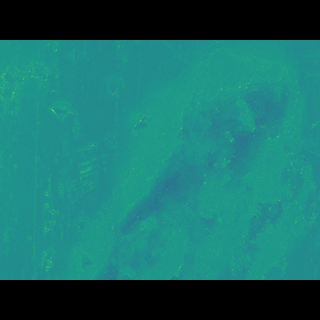Loch: (72, 73, 319, 250)
